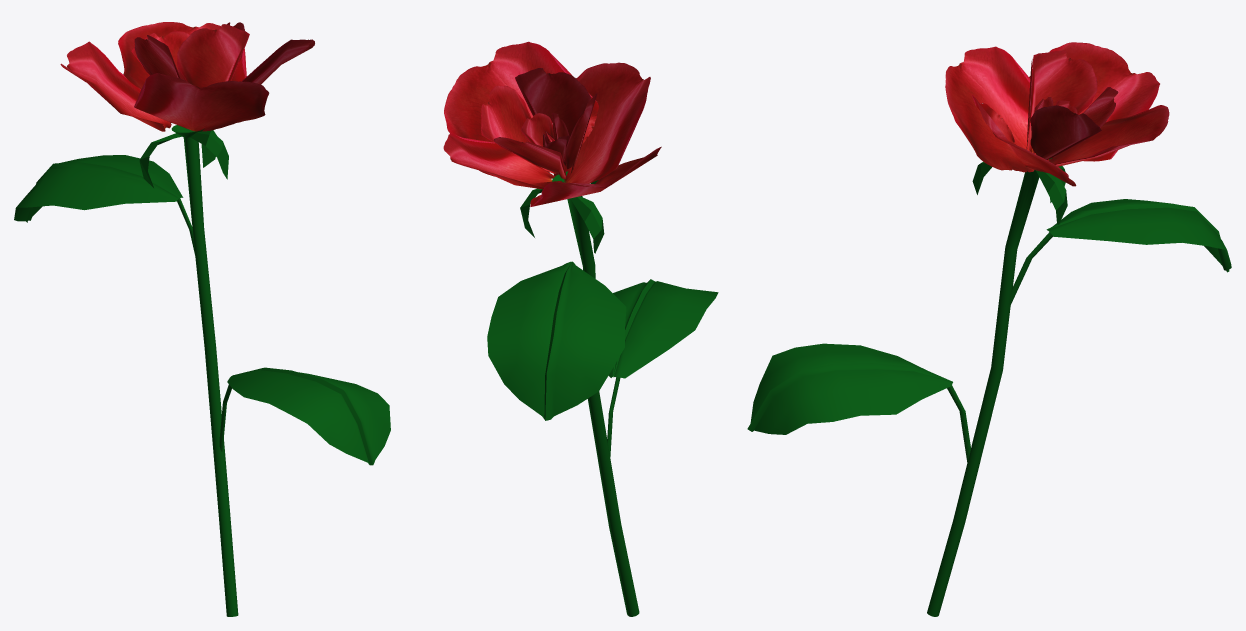
Rendered from Flor_animacion.fbx.
The picture shows the model from 3 angles, left to right: view 1: azimuth 30°, elevation 25°; view 2: azimuth 150°, elevation 25°; view 3: azimuth 270°, elevation 25°; orthographic projection. The views are drawn at different scales.
Visible parts, largest first — view 1: Hoja004, Petalos003; view 2: Hoja004, Petalos003; view 3: Hoja004, Petalos003.
Boxes of the visible parts, bbox=[...] form: Hoja004: bbox=[14, 125, 390, 616]; Petalos003: bbox=[60, 22, 314, 131]; Hoja004: bbox=[487, 171, 718, 616]; Petalos003: bbox=[443, 41, 661, 206]; Hoja004: bbox=[747, 158, 1231, 616]; Petalos003: bbox=[945, 42, 1169, 186].
Bounding box in the file's own units: 16.02 × 34.98 × 26.56.
2 materials, 1 textured.
